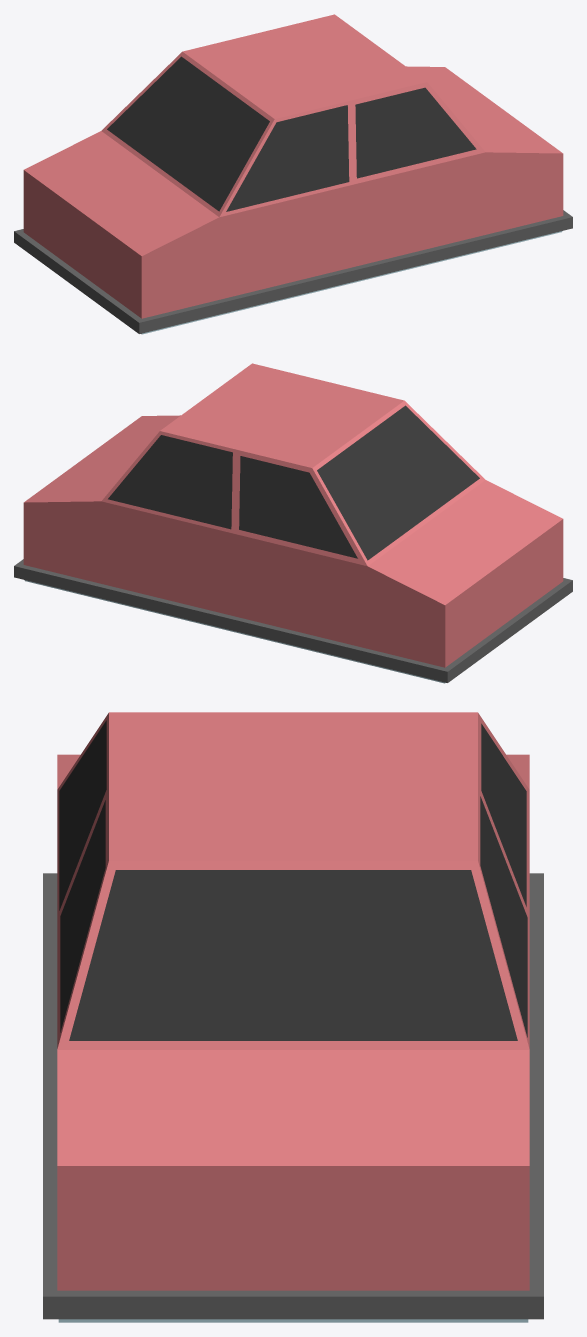
The model's file is Car.fbx.
3 renders of one model, top to bottom at view 1: azimuth 30°, elevation 25°; view 2: azimuth 150°, elevation 25°; view 3: azimuth 270°, elevation 25°, orthographic. The views are drawn at different scales.
Parts seen in each view (by area): view 1: Cube; view 2: Cube; view 3: Cube.
Part boxes in pixels (x1,y1,x2,y2): Cube: (14,14,572,334); Cube: (14,363,572,683); Cube: (43,712,543,1322).
Bounding box in the file's own units: 800 × 301 × 400.
